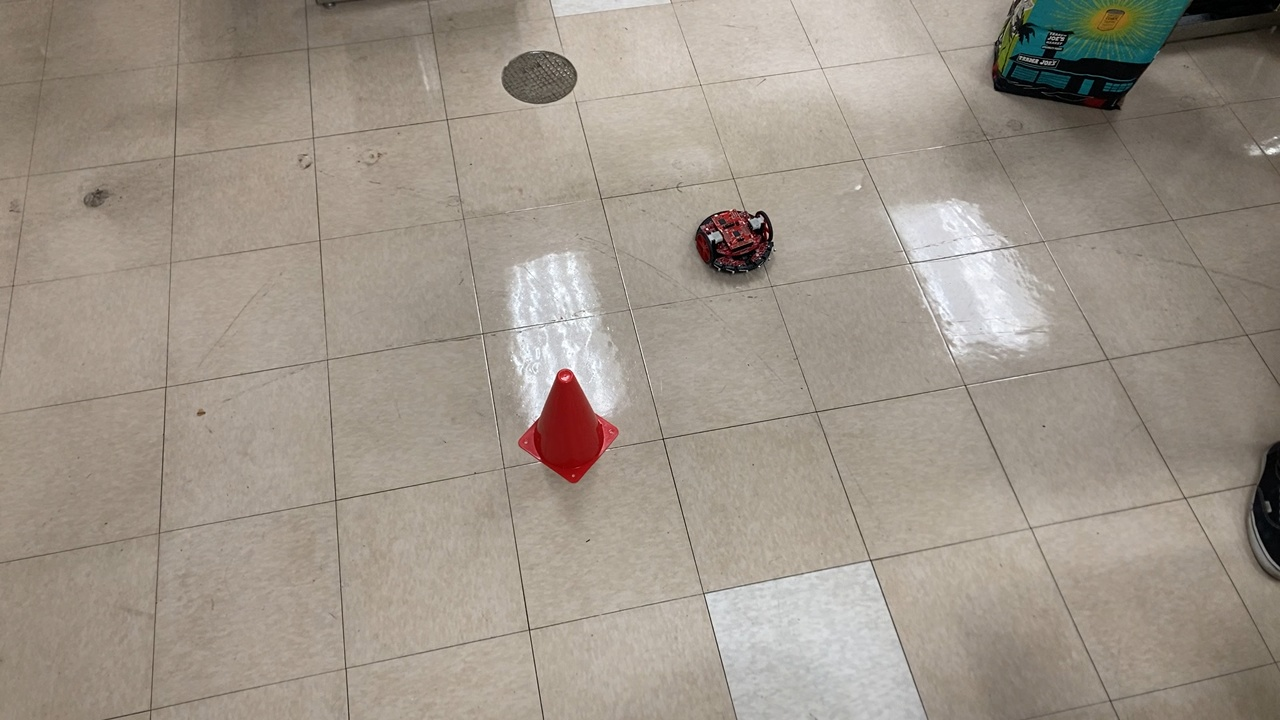red_cone: (514, 364, 623, 488)
robot: (691, 207, 775, 282)
